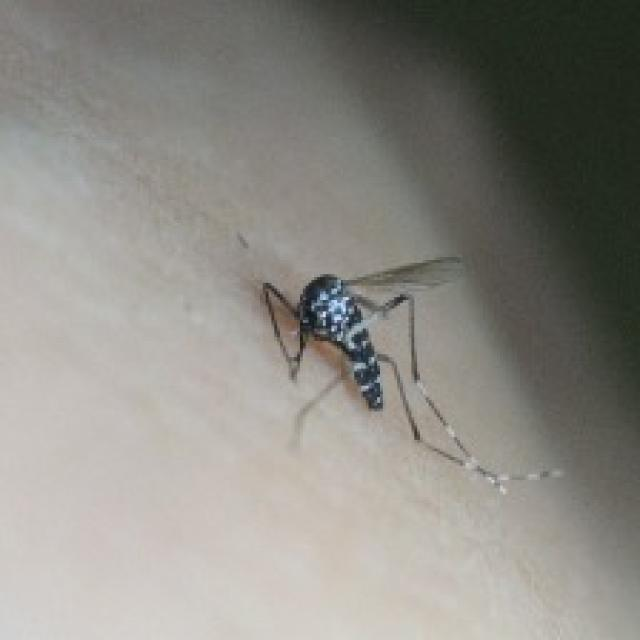aedes: (257, 252, 563, 494)
